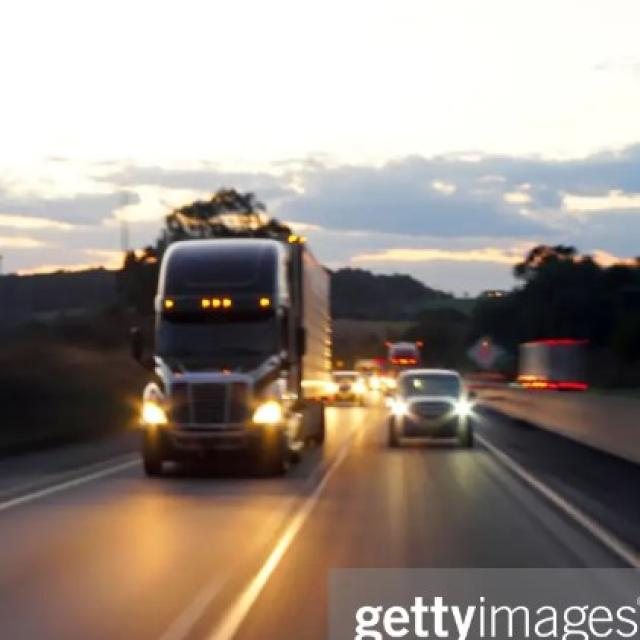car: (386, 366, 472, 447), (318, 367, 368, 408)
truck: (129, 222, 337, 476), (508, 337, 590, 396)
